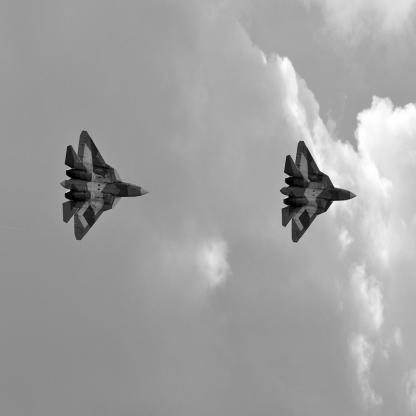Su57: (61, 131, 151, 242), (280, 141, 358, 244)
